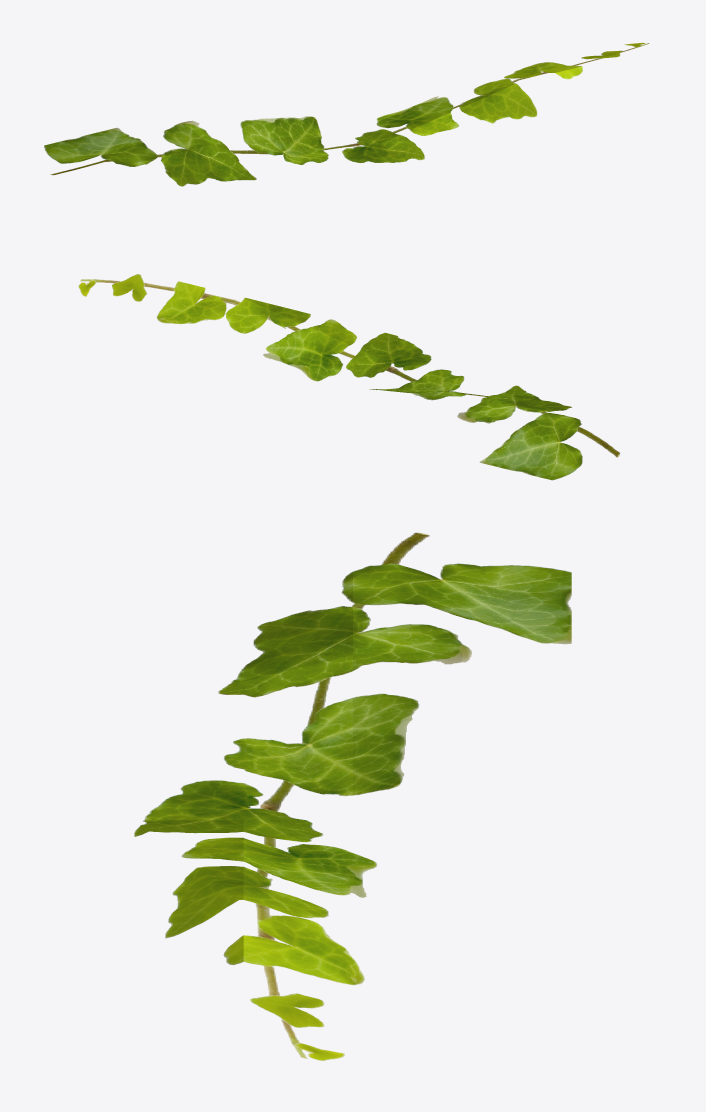
File: Plant_wall.fbx
3 renders of one model, top to bottom at view 1: azimuth 30°, elevation 25°; view 2: azimuth 150°, elevation 25°; view 3: azimuth 270°, elevation 25°, orthographic. The views are drawn at different scales.
Parts seen in each view (by area): view 1: Plane; view 2: Plane; view 3: Plane.
Boxes of the visible parts, bbox=[...] form: Plane: bbox=[44, 42, 649, 186]; Plane: bbox=[78, 274, 620, 480]; Plane: bbox=[134, 532, 571, 1060].
Bounding box in the file's own units: 6 × 0.3616 × 2.
